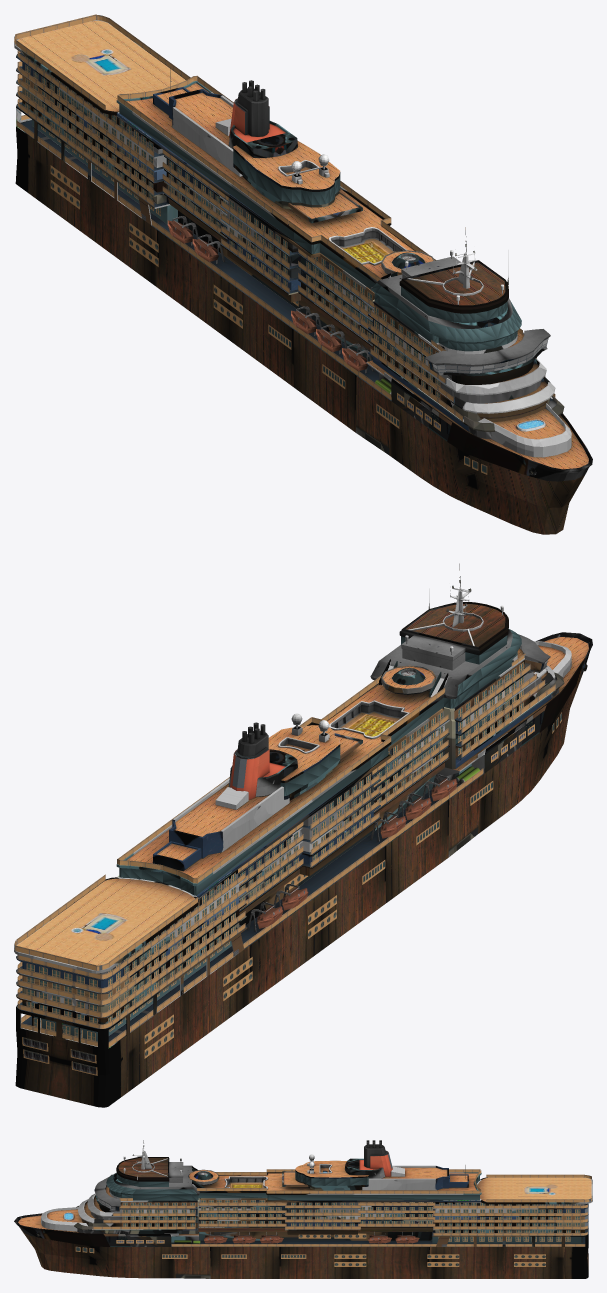
File: sea-cruise-ship.fbx
3 views of the same model, one above another, from view 1: azimuth 30°, elevation 25°; view 2: azimuth 150°, elevation 25°; view 3: azimuth 270°, elevation 25° (orthographic). The views are drawn at different scales.
Parts seen in each view (by area): view 1: Body.001; view 2: Body.001; view 3: Body.001.
Boxes of the visible parts, x1,y1,x2,y2 form: Body.001: (14, 14, 592, 534); Body.001: (14, 563, 592, 1107); Body.001: (14, 1140, 592, 1278).
Size of the model in its own units: 2746 by 5258 by 21036.
